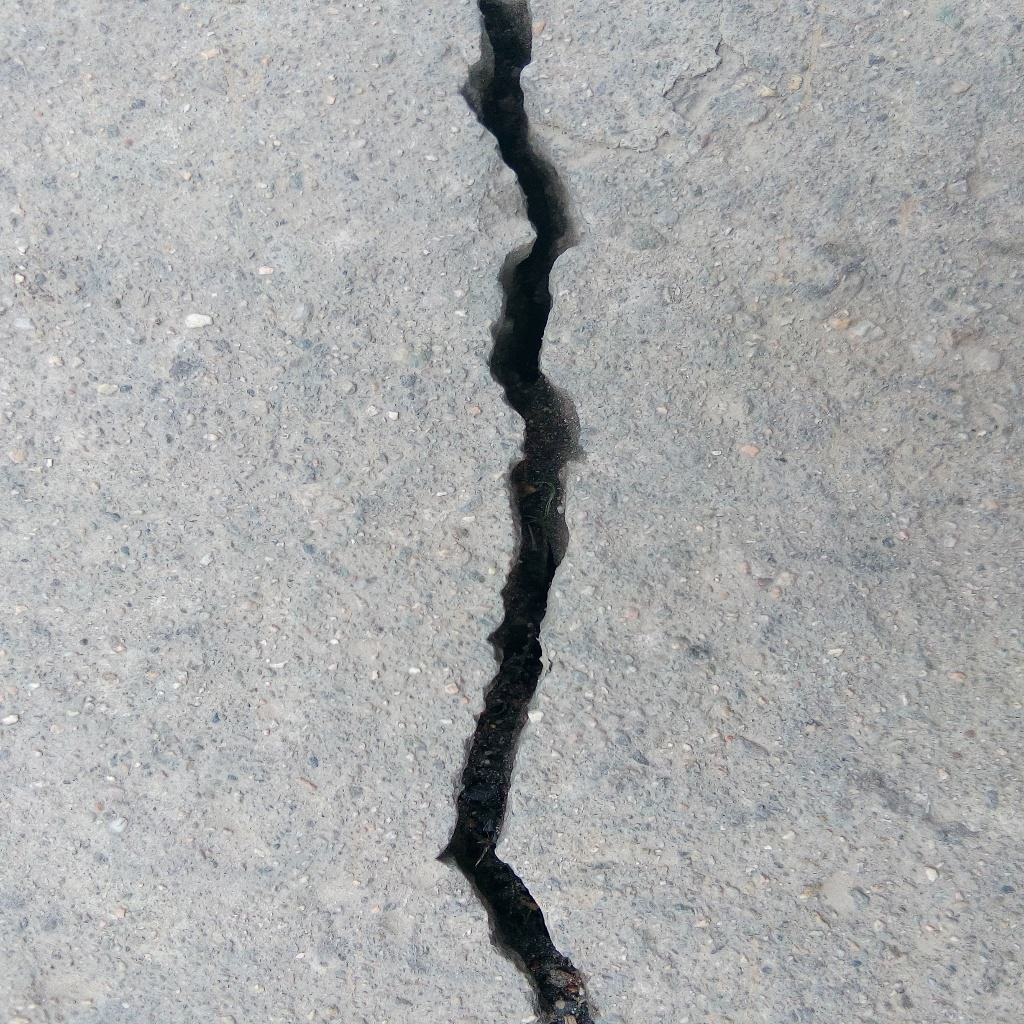Crack: (434, 1, 592, 1024)
